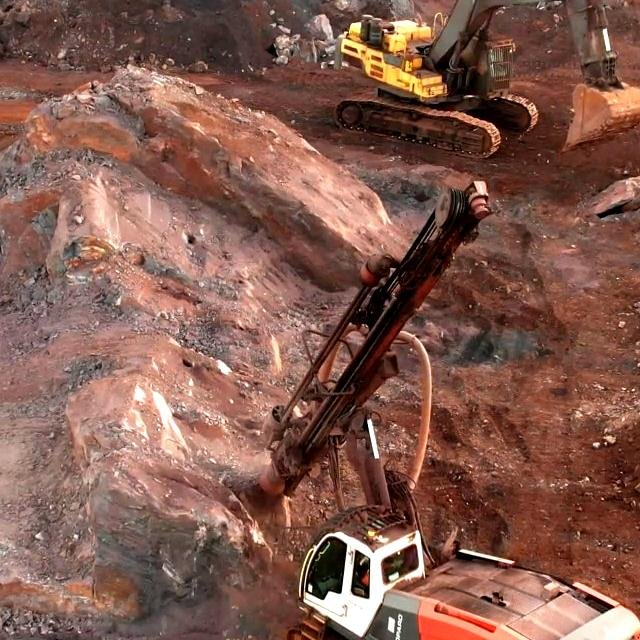Blast rig: (296, 535, 627, 640)
Excavator: (345, 20, 523, 144)
